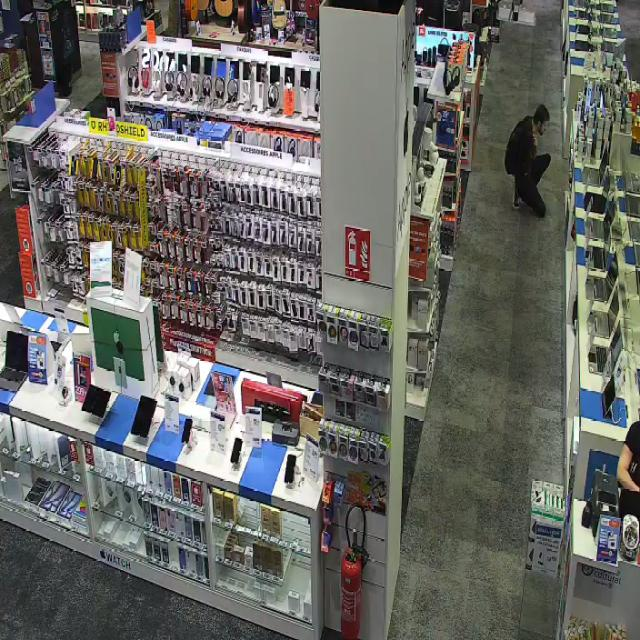person: (505, 104, 550, 217)
